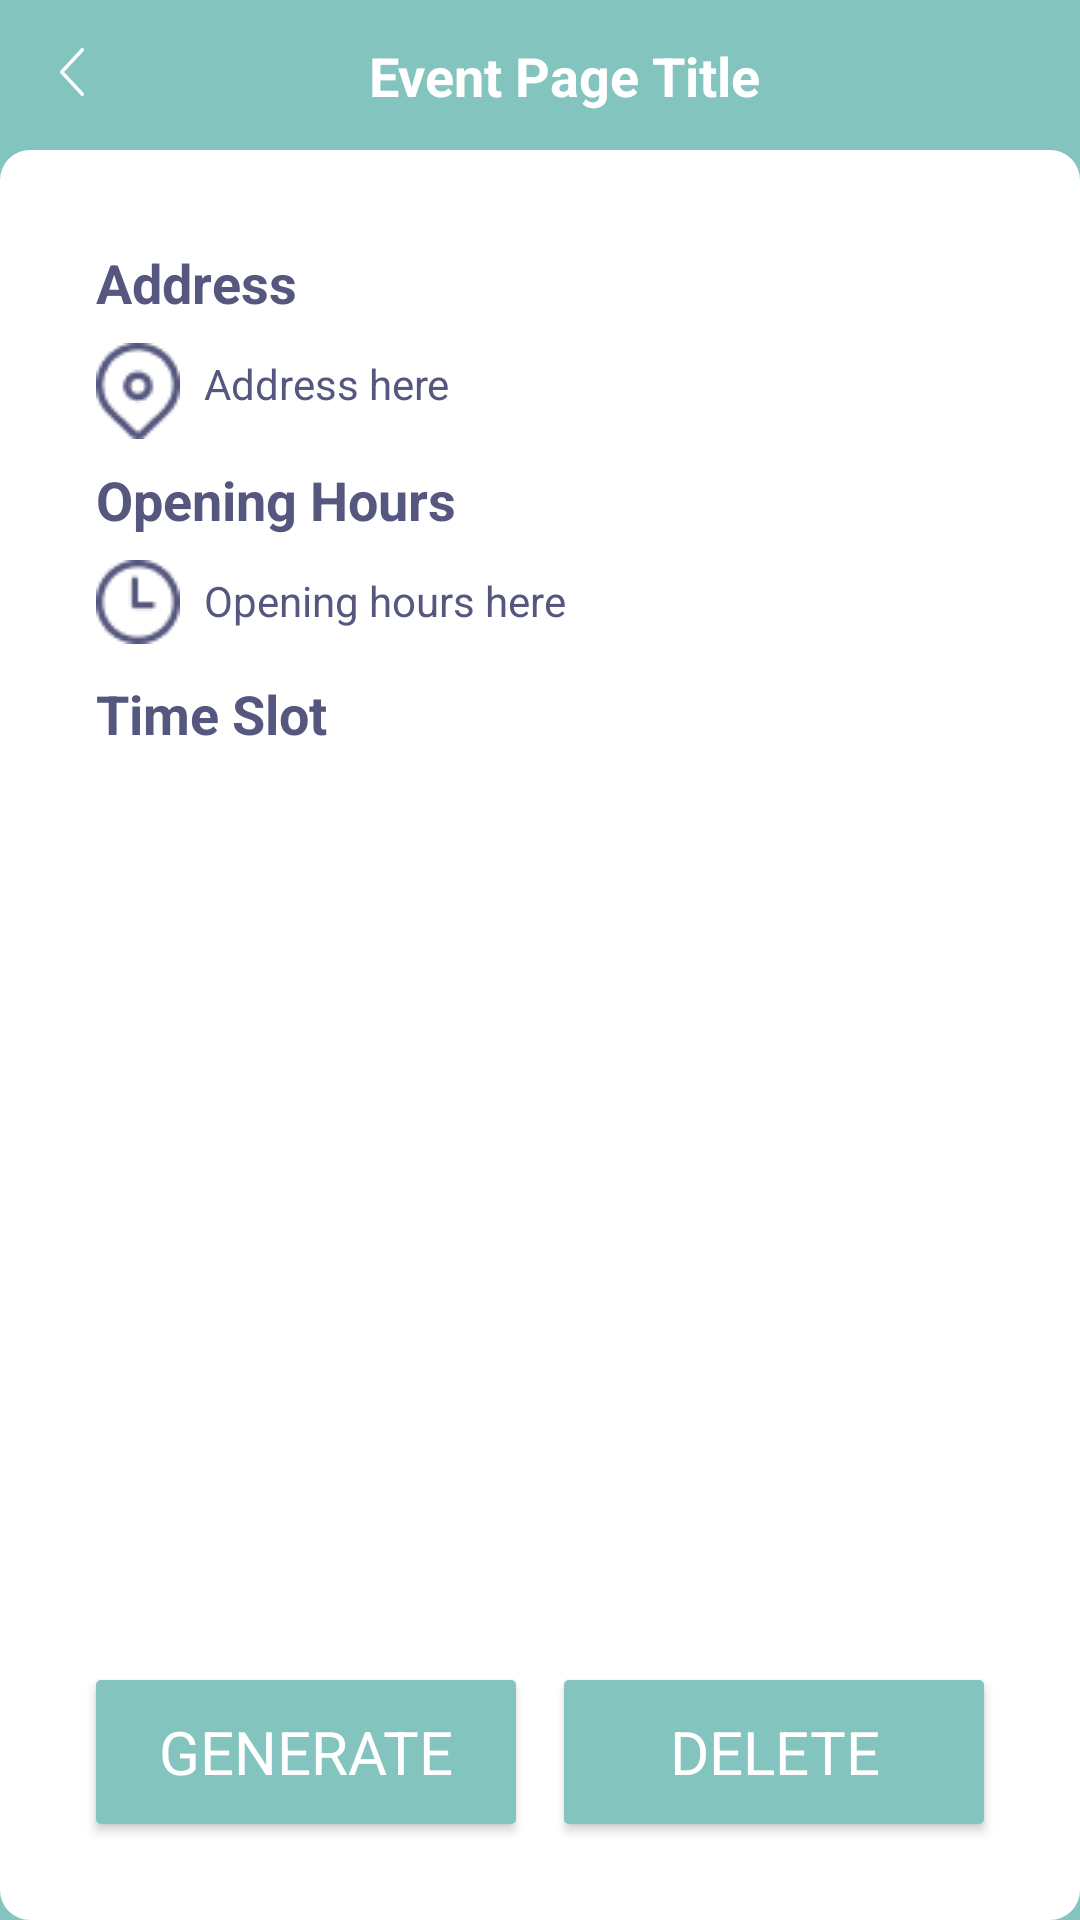

Locate icon controls on the screen. Image size 1080x1920, boxes as bbox=(x1, y1, x2, y2).
arrow back: bbox=(60, 48, 84, 96)
location: bbox=(96, 343, 180, 439)
